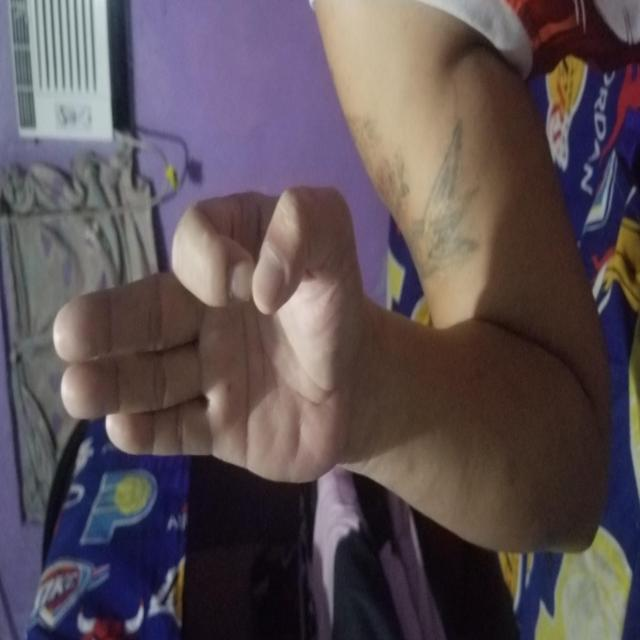F: (158, 52, 459, 361)
